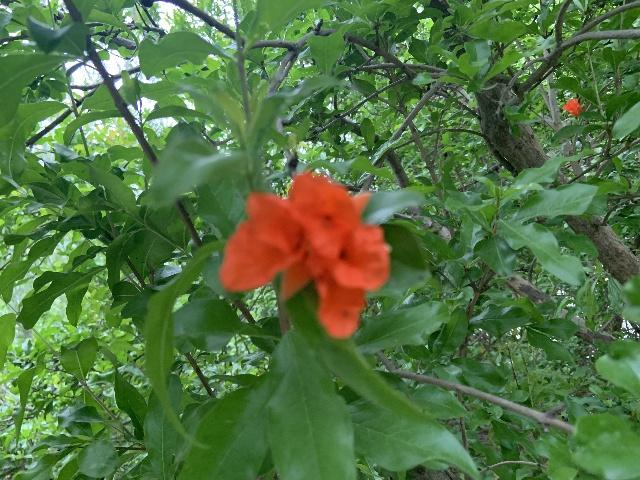flower: (219, 168, 392, 338), (561, 97, 583, 118)
